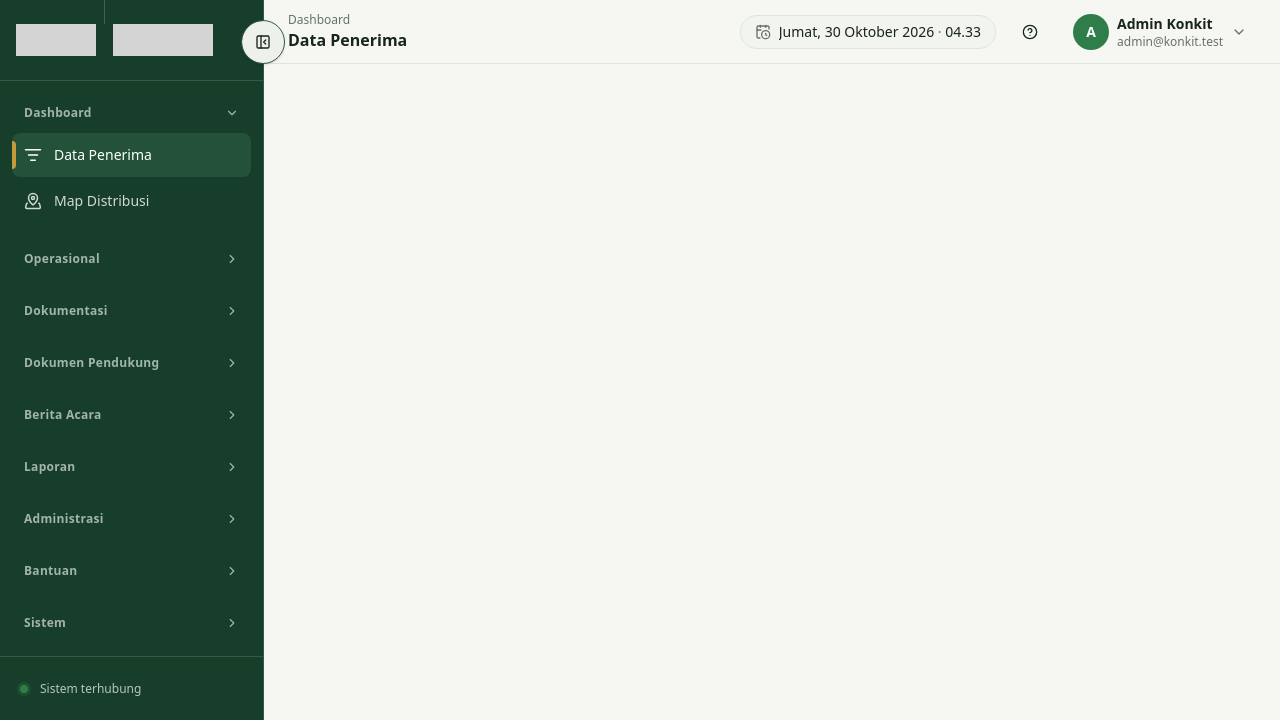
Test: AppShell › exposes the workspace and account actions through landmarks
The image size is (1280, 720).
Expected: the navigation bar named "Navigasi utama" is shown, [0,81,263,656]
Click the button with aria-label "Menu akun".
click(1160, 32)  # box [1064,10,1256,54]
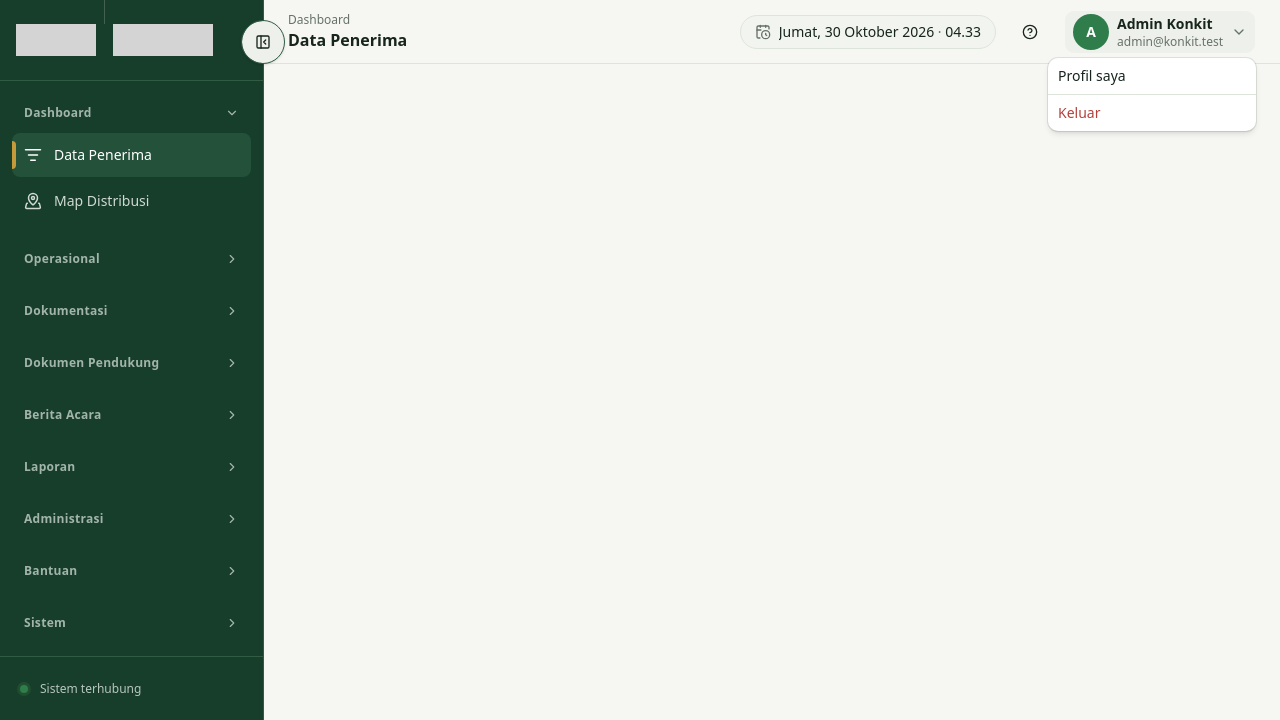
Now the menu item "Profil saya" is shown, box [1058,66,1126,85]
Now the menu item "Keluar" is shown, box [1052,99,1106,127]
